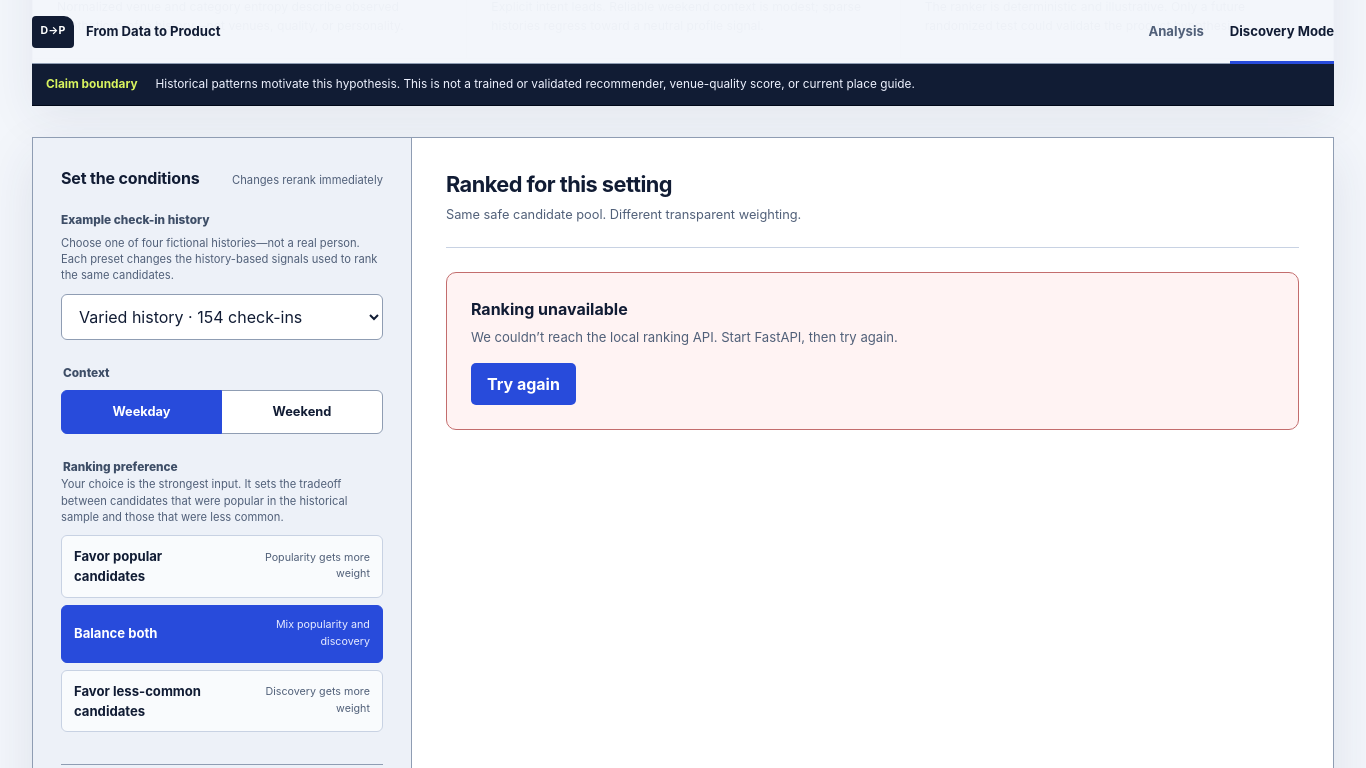
Test case: DiscoveryExperience › shows loading and a recoverable API error
(page scrolled)
Expected: the message shows "couldn’t reach the local ranking API", [471,329,898,345]
Click the button "Try again" at [523, 384], box [471,363,576,405]
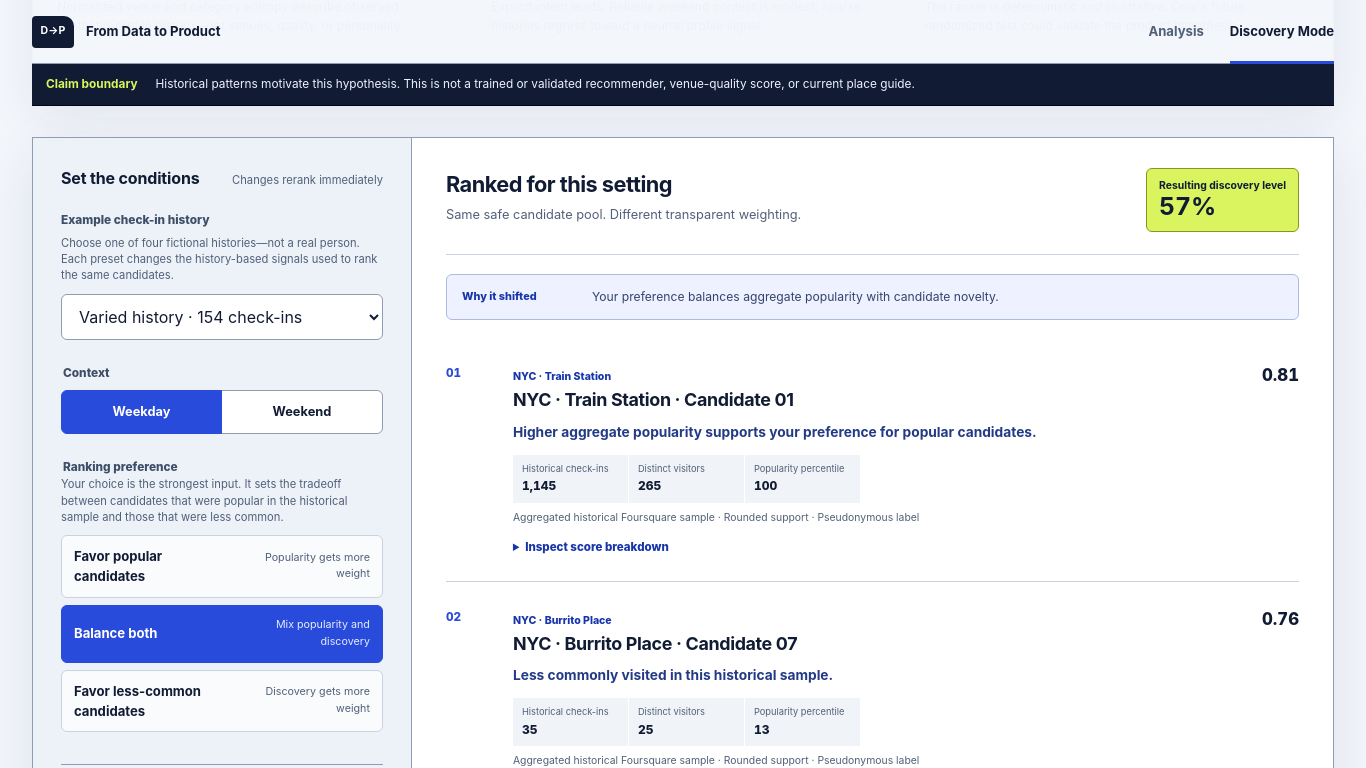
Expected: the heading "NYC · Train Station · Candidate 01" is shown, [513,389,794,412]
